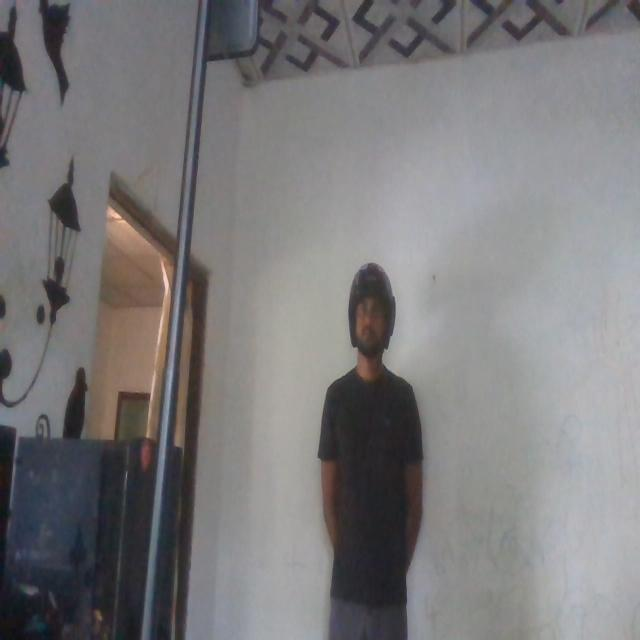Helmet_Wearer: (342, 258, 399, 381)
Person: (309, 255, 437, 640)
